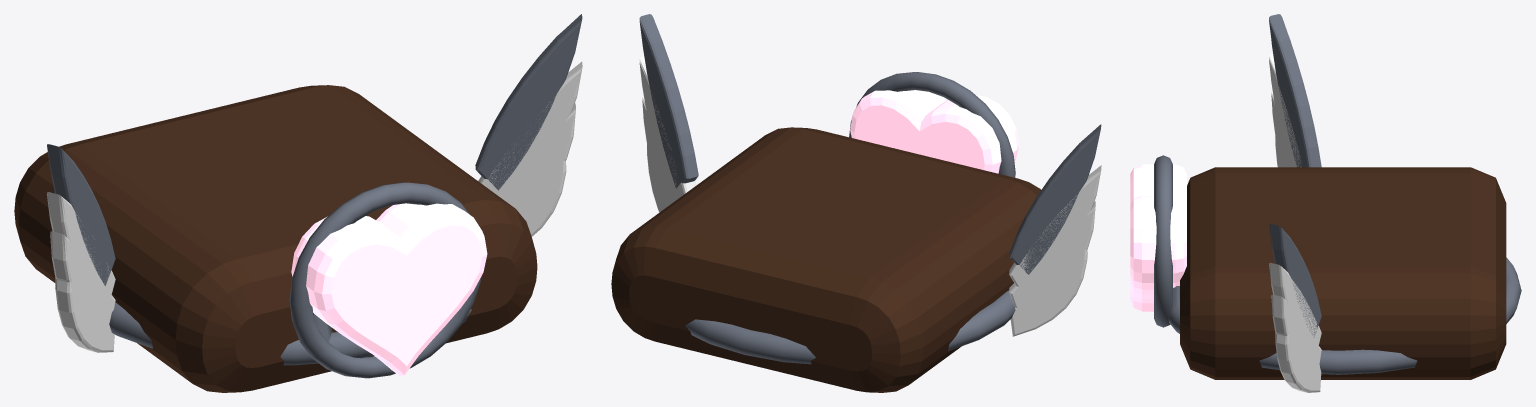
File: hat_eqmo0.glb
3 views of the same model, side by side, from view 1: azimuth 30°, elevation 25°; view 2: azimuth 150°, elevation 25°; view 3: azimuth 270°, elevation 25° (orthographic). The views are drawn at different scales.
Size of the model in its own units: 3.08 by 1.4 by 2.4.
